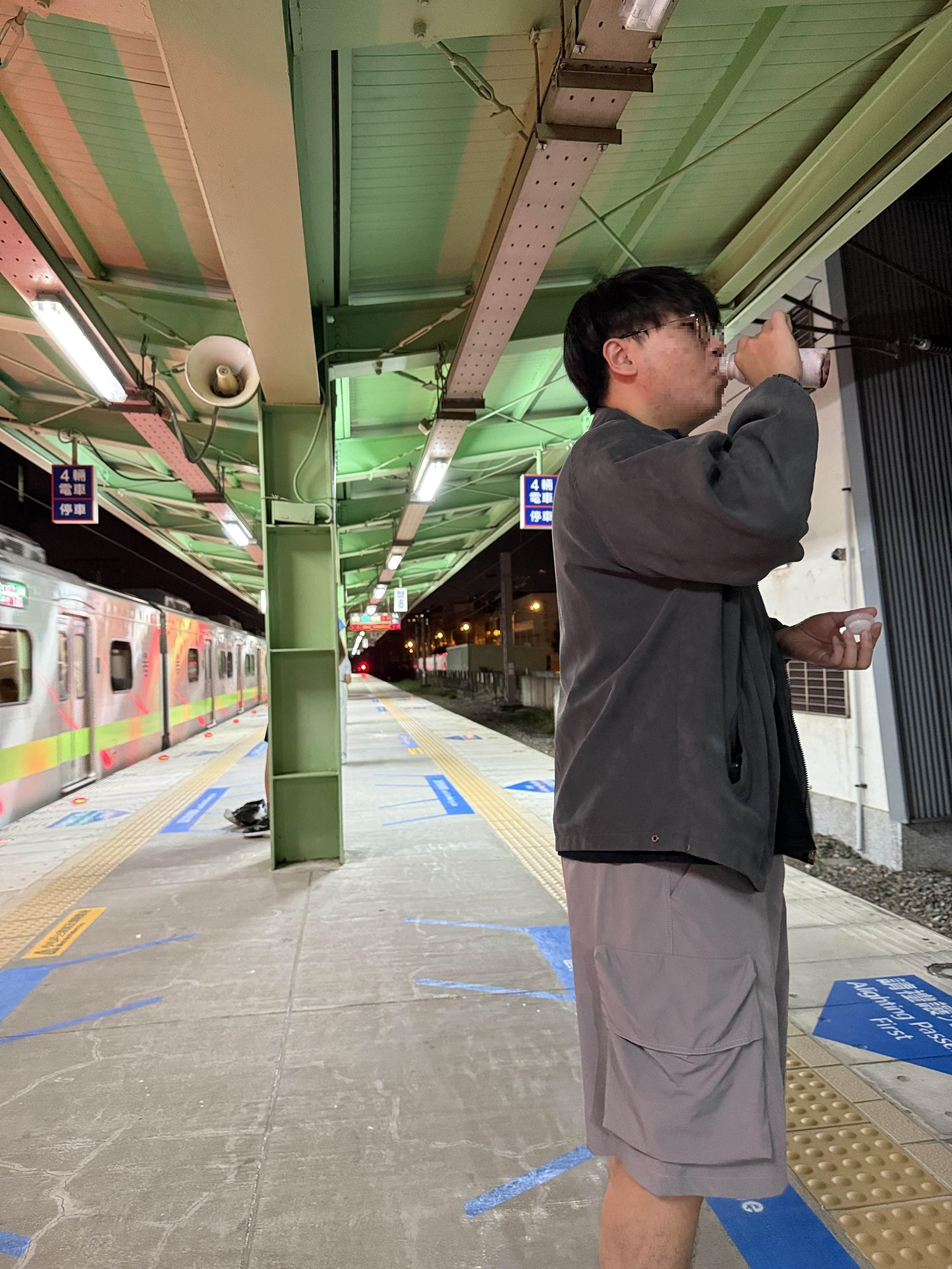NoHelmet: (565, 266, 718, 419)
NoVest: (554, 431, 789, 861)
